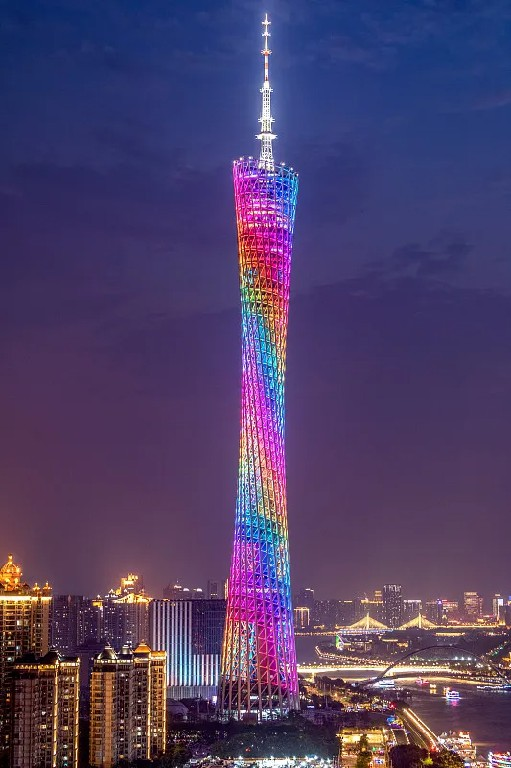Canton: (213, 7, 309, 711)
